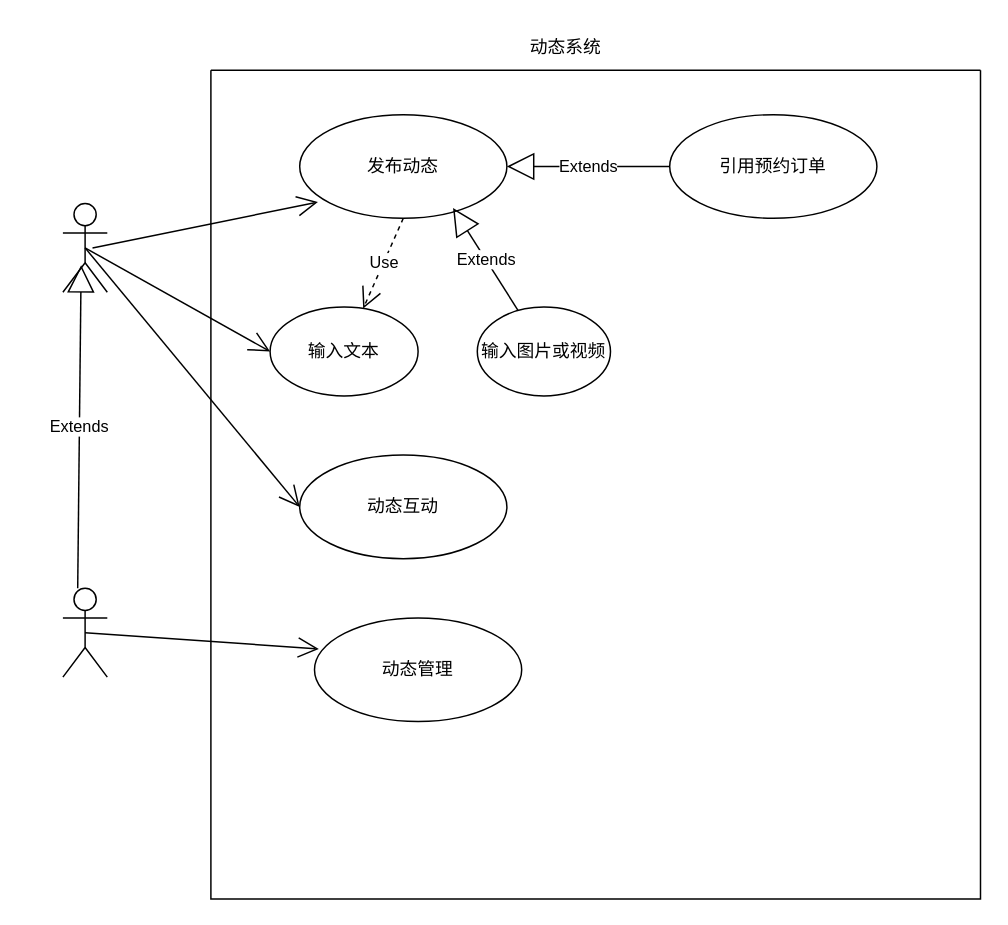
Image size: 1008x925. Some labels were removed from this diagram. The centre of each missing label's shape, as x and y in pixels:
Actor: point 84,632
普通用户(学生): point 84,247
